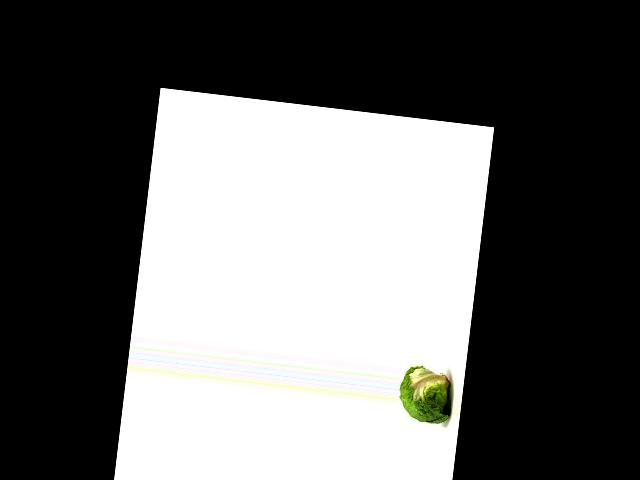lettuce: (396, 362, 458, 426)
